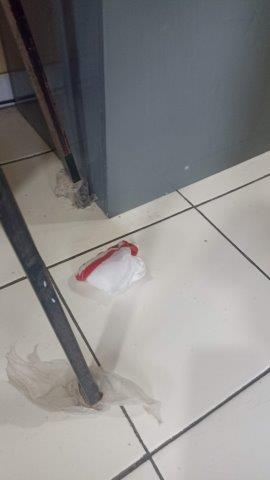plastik: (7, 352, 165, 426), (71, 245, 150, 292)
